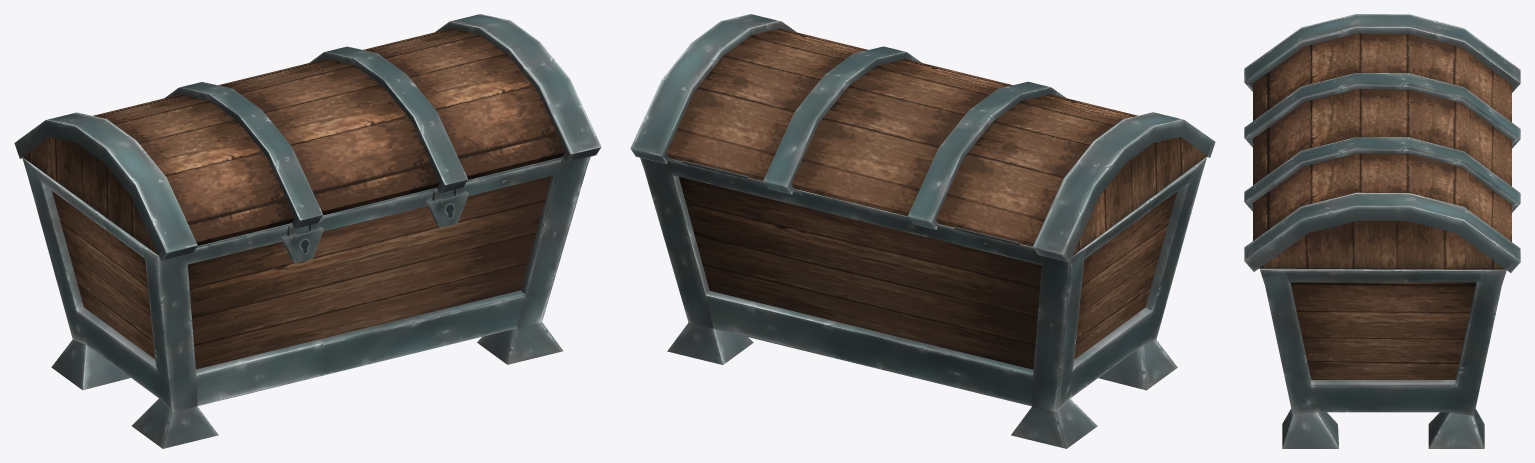
The model's file is chest_006.FBX.
The picture shows the model from 3 angles, left to right: view 1: azimuth 30°, elevation 25°; view 2: azimuth 150°, elevation 25°; view 3: azimuth 270°, elevation 25°; orthographic projection. The views are drawn at different scales.
Visible parts, largest first — view 1: chest_0063, chest; view 2: chest_0063, chest; view 3: chest, chest_0063.
Part boxes in pixels (x1,y1,x2,y2): chest_0063: [22, 156, 590, 448]; chest: [14, 14, 601, 261]; chest_0063: [640, 157, 1206, 448]; chest: [630, 14, 1215, 262]; chest: [1244, 14, 1520, 272]; chest_0063: [1260, 268, 1506, 448].
Size of the model in its own units: 23.3 by 13.96 by 13.99.
